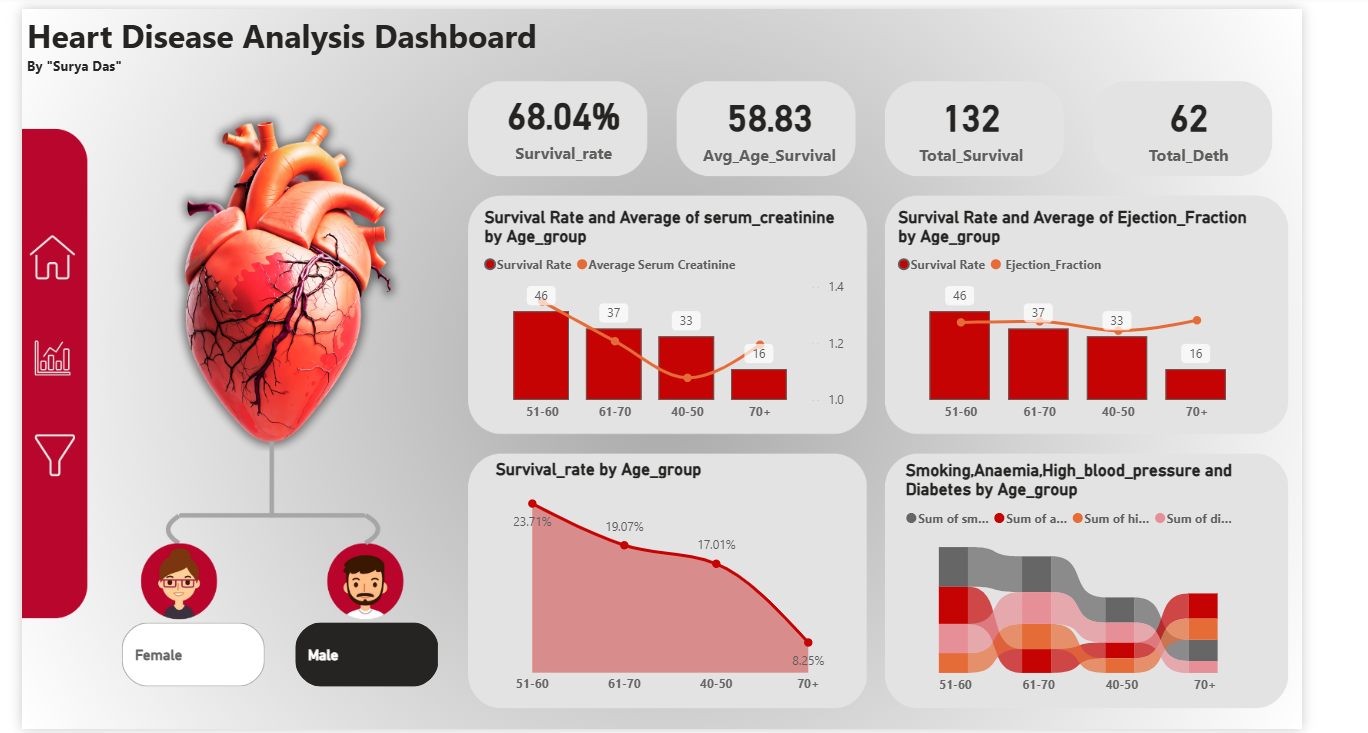

What the dashboard file says about the page in this screenshot:
{"tool":"powerbi","page":{"name":"Page 1","canvas":[1280,720],"ordinal":0},"visuals":[{"type":"card","fields":{"Values":["heart_Disease_clinical_records_.Survival_rate"]},"box":[443.2,56.3,196.2,118],"z":0},{"type":"card","fields":{"Values":["Measures (2).Avg_Age_Survival"]},"box":[596.9,72.7,300.5,89.2],"z":1000},{"type":"card","fields":{"Values":["Measures (2).Total_Survival"]},"box":[871.4,72.7,156.4,89.2],"z":2000},{"type":"card","fields":{"Values":["Measures (2).Total_Deth"]},"box":[1082.7,72.7,168.8,89.2],"z":3000},{"type":"lineClusteredColumnComboChart","title":"Survival Rate and Average of serum_creatinine by Age_group","fields":{"Category":["heart_Disease_clinical_records_.Age_group"],"Y":["CountNonNull(heart_Disease_clinical_records_.DEATH_EVENT)"],"Y2":["Avg(heart_Disease_clinical_records_.serum_creatinine)"]},"box":[456.9,197.6,371.9,223.7],"z":4000},{"type":"lineClusteredColumnComboChart","title":"Survival Rate and Average of Ejection_Fraction by Age_group","fields":{"Category":["heart_Disease_clinical_records_.Age_group"],"Y":["CountNonNull(heart_Disease_clinical_records_.DEATH_EVENT)"],"Y2":["Avg(heart_Disease_clinical_records_.ejection_fraction)"]},"box":[871.4,197.6,371.9,223.7],"z":5000},{"type":"lineChart","fields":{"Category":["heart_Disease_clinical_records_.Age_group"],"Y":["Measures (2).Survival_rate"]},"box":[469.3,450.1,359.5,242.9],"z":6000},{"type":"ribbonChart","title":"Smoking,Anaemia,High_blood_pressure and Diabetes by Age_group","fields":{"Category":["heart_Disease_clinical_records_.Age_group"],"Y":["Sum(heart_Disease_clinical_records_.smoking)","Sum(heart_Disease_clinical_records_.anaemia)","Sum(heart_Disease_clinical_records_.high_blood_pressure)","Sum(heart_Disease_clinical_records_.diabetes)"]},"box":[878.2,451.5,359.5,242.9],"z":7000},{"type":"advancedSlicerVisual","fields":{"Values":["heart_Disease_clinical_records_.Gender"]},"box":[95.3,609.3,501.9,74.8],"z":8000},{"type":"textbox","box":[0,0,541.2,158.8],"z":8001}]}

Visuals, with their boxes on the page's 1280x720 design canvas (x1, y1, x2, y2). These are canvas units, not pixel positions in the 1368x733 screenshot, which may show the page scaled, cropped or inside an application window:
card - heart_Disease_clinical_records_.Survival_rate: box=[443, 56, 639, 174]
card - Measures (2).Avg_Age_Survival: box=[597, 73, 897, 162]
card - Measures (2).Total_Survival: box=[871, 73, 1028, 162]
card - Measures (2).Total_Deth: box=[1083, 73, 1252, 162]
"Survival Rate and Average of serum_creatinine by Age_group" lineClusteredColumnComboChart: box=[457, 198, 829, 421]
"Survival Rate and Average of Ejection_Fraction by Age_group" lineClusteredColumnComboChart: box=[871, 198, 1243, 421]
lineChart - heart_Disease_clinical_records_.Age_group x Measures (2).Survival_rate: box=[469, 450, 829, 693]
"Smoking,Anaemia,High_blood_pressure and Diabetes by Age_group" ribbonChart: box=[878, 452, 1238, 694]
advancedSlicerVisual - heart_Disease_clinical_records_.Gender: box=[95, 609, 597, 684]
textbox: box=[0, 0, 541, 159]
